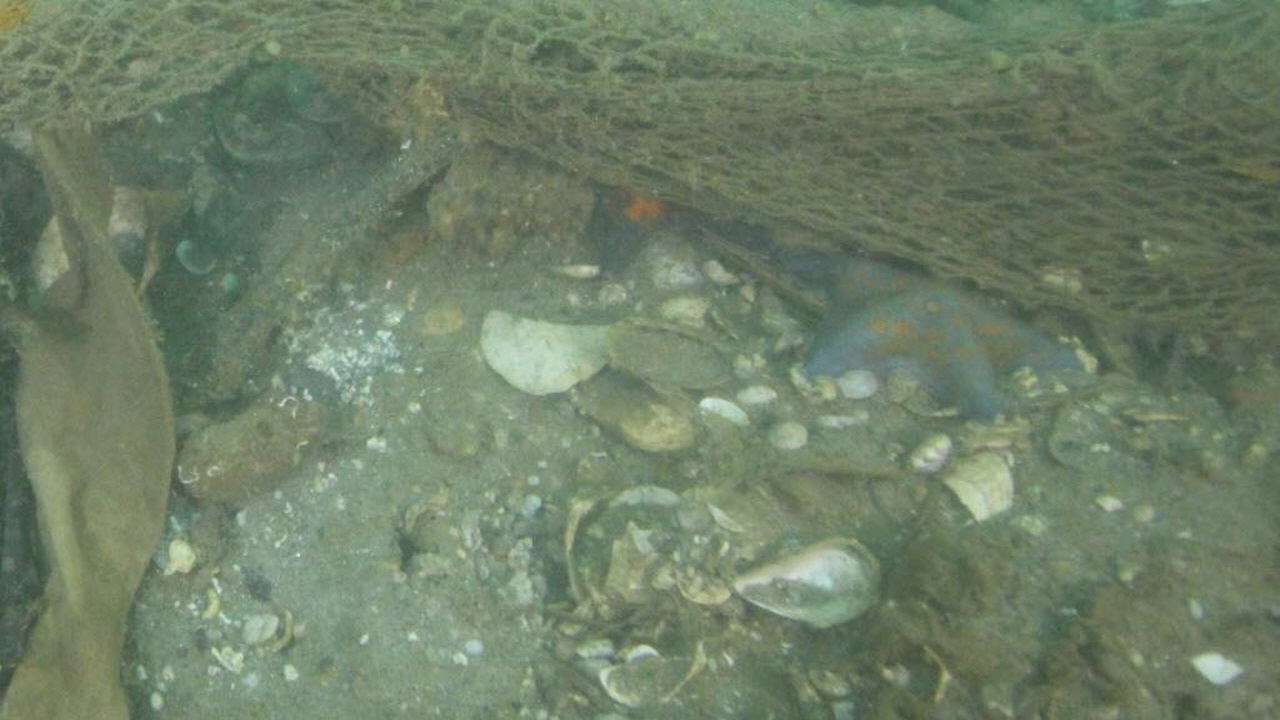fish net: (0, 0, 1280, 343)
